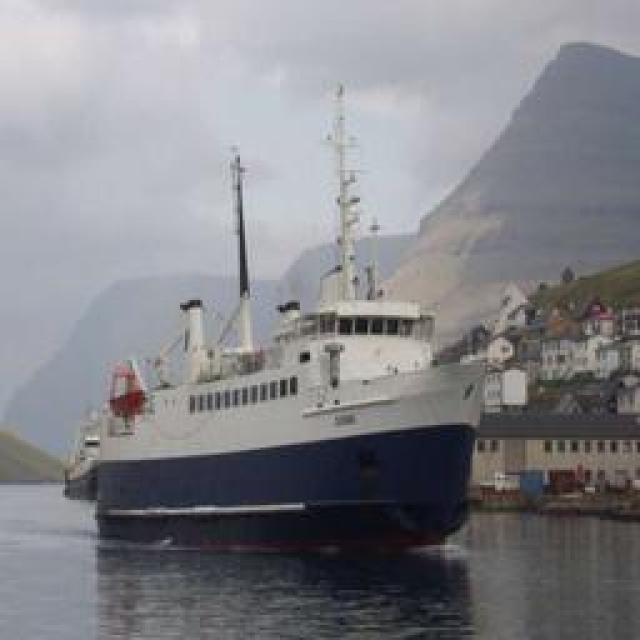CIV_Ship: (66, 159, 484, 549)
